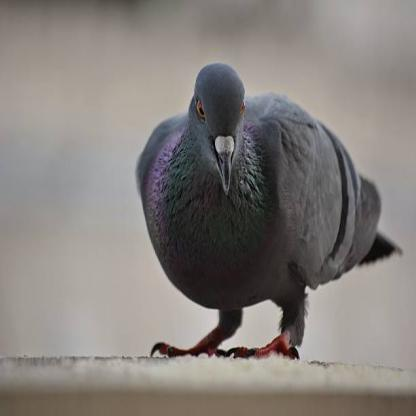Rock Pigeon: (139, 63, 387, 340)
